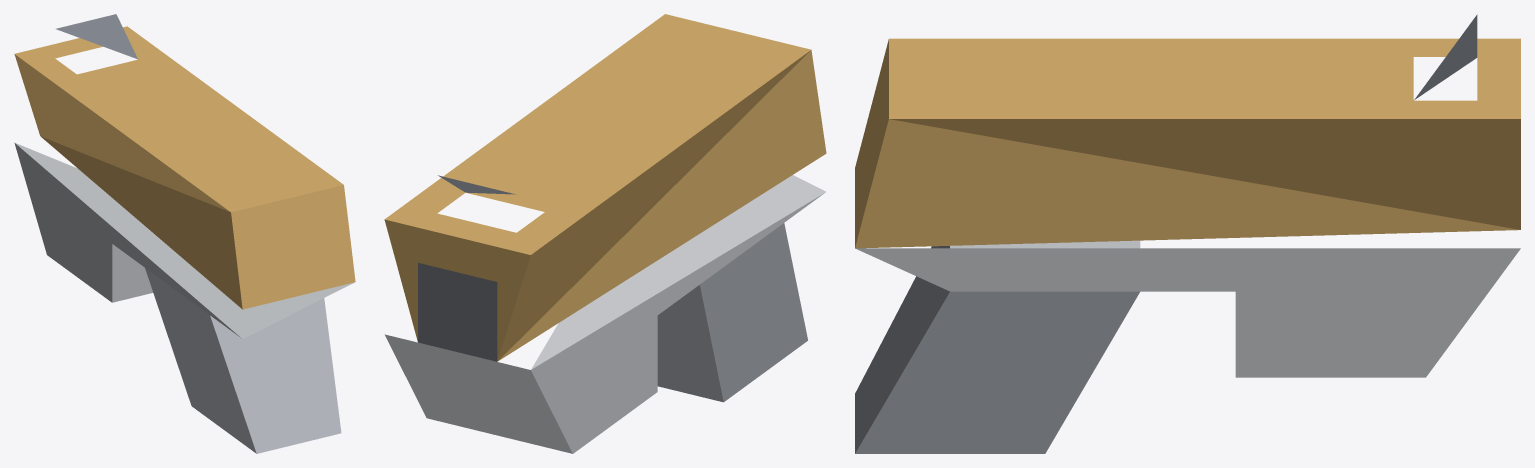
Rendered from weapon_gun.lod.glb.
3 views of the same model, side by side, from view 1: azimuth 30°, elevation 25°; view 2: azimuth 150°, elevation 25°; view 3: azimuth 270°, elevation 25° (orthographic). The views are drawn at different scales.
Parts seen in each view (by area): view 1: weapon_gun; view 2: weapon_gun; view 3: weapon_gun.
Part boxes in pixels (x1,y1,x2,y2): weapon_gun: (14,14,355,453); weapon_gun: (384,14,826,453); weapon_gun: (855,14,1520,453).
Bounding box in the file's own units: 0.1 × 0.225 × 0.35.
